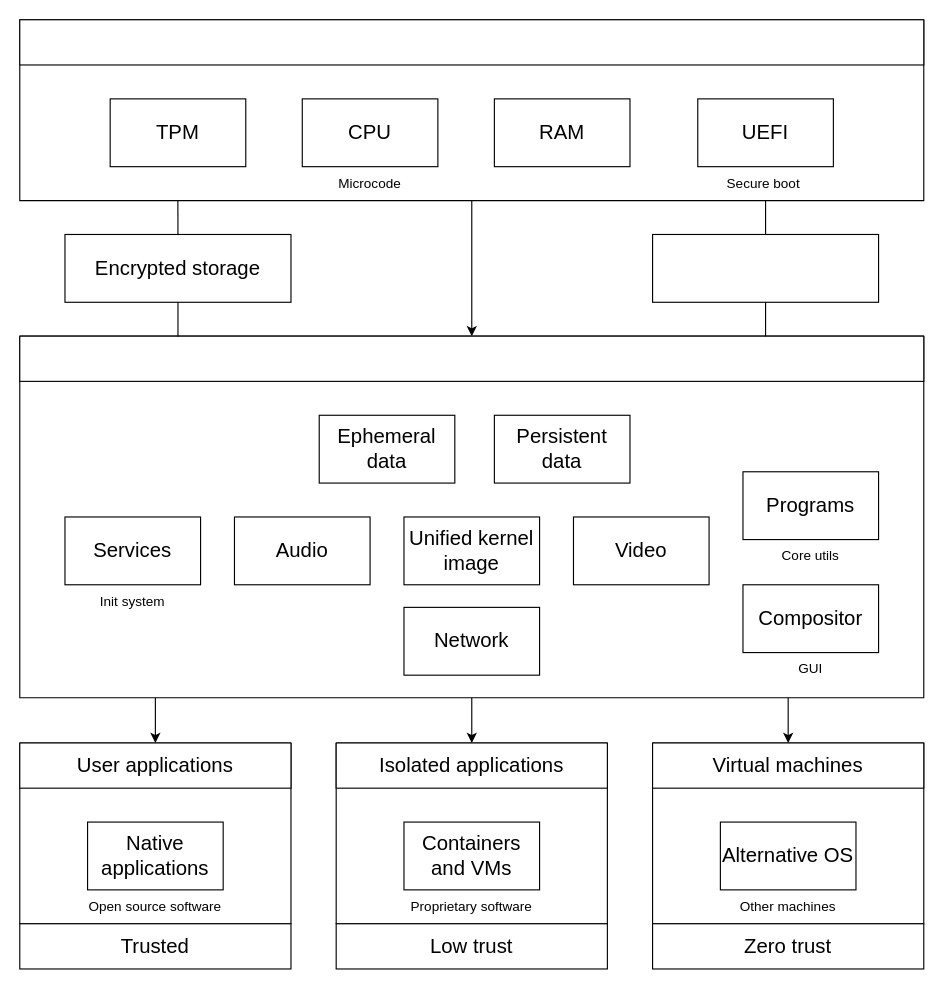
Some shapes in this 944 by 989 pixel diagram are drawn without their labels. Each missing label, with the box of its shape:
Hardware and firmware: (19, 19, 924, 65)
Operating system: (19, 335, 924, 381)
UKI verification: (651, 233, 879, 302)
